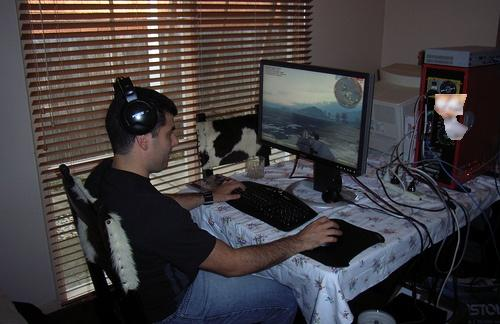tampered: (435, 95, 468, 140)
